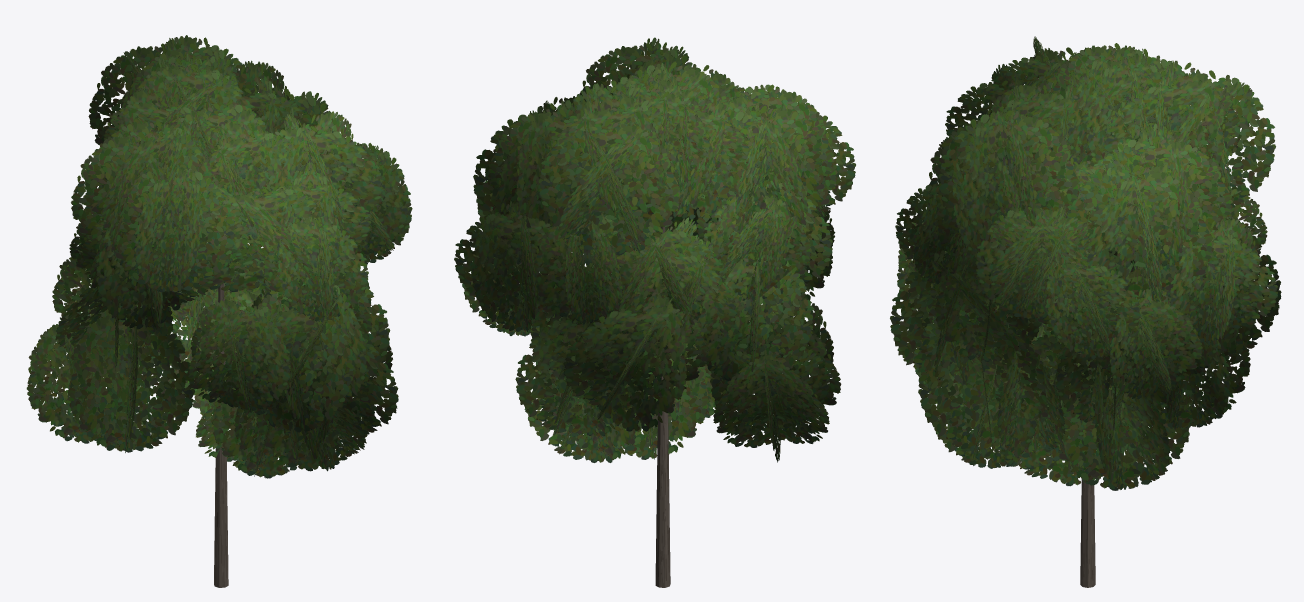
The model's file is tree_linden_lod1.glb.
The picture shows the model from 3 angles, left to right: view 1: azimuth 30°, elevation 25°; view 2: azimuth 150°, elevation 25°; view 3: azimuth 270°, elevation 25°; orthographic projection. The views are drawn at different scales.
Parts seen in each view (by area): view 1: tree_linden_crown, tree_linden_trunk-col; view 2: tree_linden_crown, tree_linden_trunk-col; view 3: tree_linden_crown, tree_linden_trunk-col.
Part boxes in pixels (<box>): tree_linden_crown: <box>26,35,412,478</box>; tree_linden_trunk-col: <box>214,249,228,587</box>; tree_linden_crown: <box>454,37,855,462</box>; tree_linden_trunk-col: <box>655,206,670,587</box>; tree_linden_crown: <box>890,36,1281,490</box>; tree_linden_trunk-col: <box>1080,288,1095,587</box>.
Bounding box in the file's own units: 8.98 × 12.37 × 8.57.
Materials: 2 (2 with a texture image).
